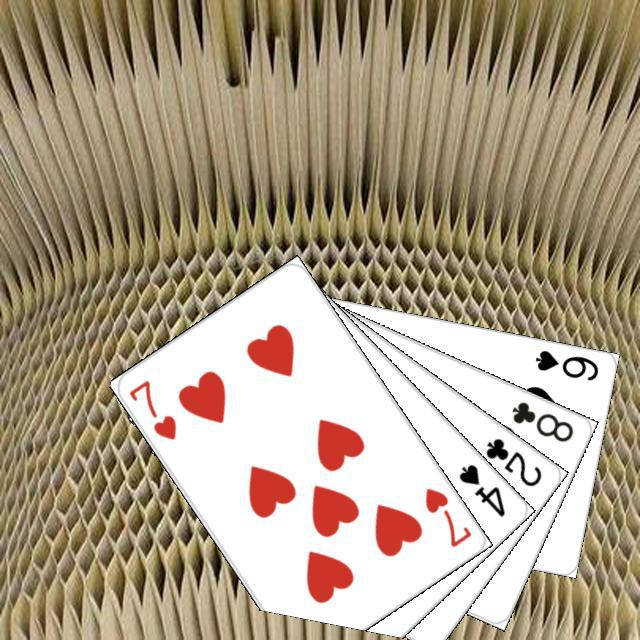2c: (480, 432, 544, 489)
4s: (453, 459, 507, 519)
6s: (530, 345, 600, 382)
7h: (123, 375, 179, 442), (419, 482, 474, 549)
8c: (507, 396, 575, 444)
